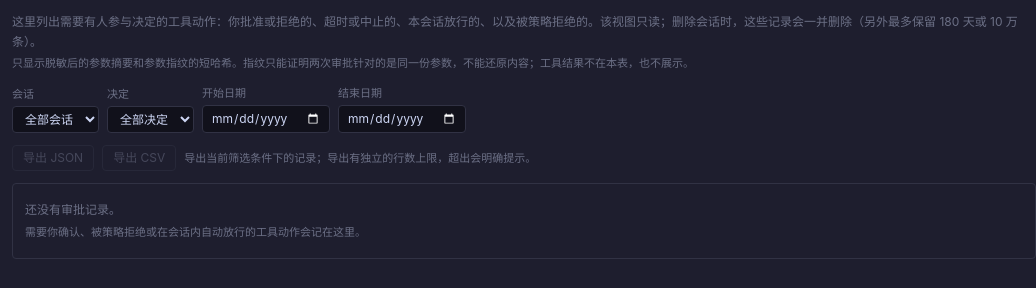
Scenario: 空态三态：真没有 / 筛空 / 读取失败 › 筛选筛空 ⇒ 说"当前筛选条件下没有记录"，一键清空后回到"还没有记录"
Expected: the text "还没有审批记录。" is shown, [25, 202, 121, 217]
Select "你已拒绝" in the dropdown labelled "决定" at (150, 120), box [107, 106, 194, 133]
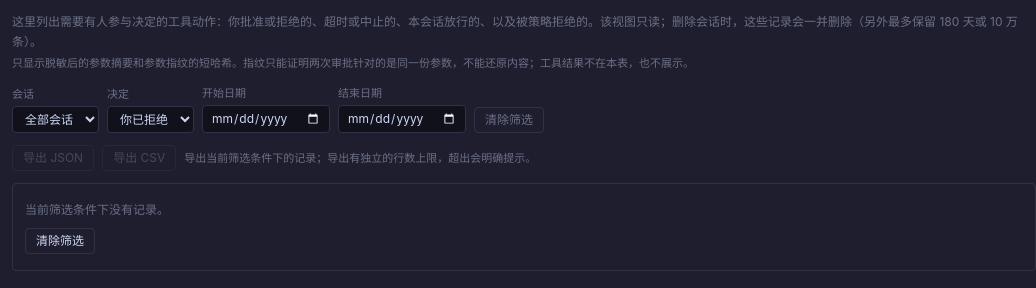
Result: the text "当前筛选条件下没有记录。" is shown at [25, 202, 169, 217]
Result: the text "还没有审批记录。" is gone
Note: 空态盒子里那颗「清除筛选」（筛选条上还有一颗同文案的，取最后一颗）
Click the button "清除筛选" below "当前筛选条件下没有记录。".
click(60, 241)  # box [25, 228, 95, 254]
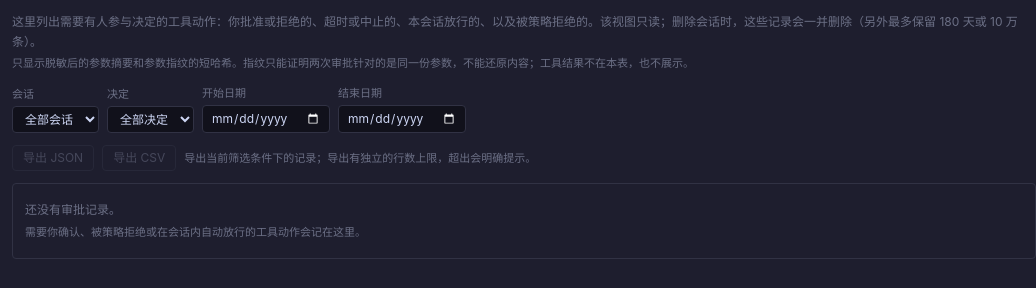
Result: the text "还没有审批记录。" is shown at [25, 202, 121, 217]
Result: the text "当前筛选条件下没有记录。" is gone
